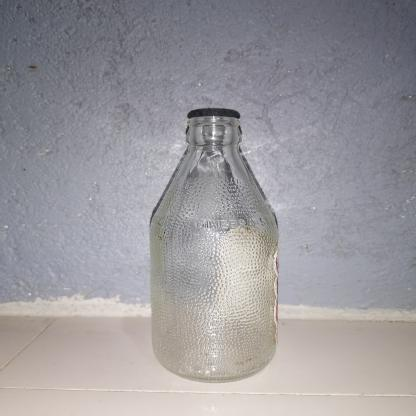Can: (143, 113, 285, 386)
